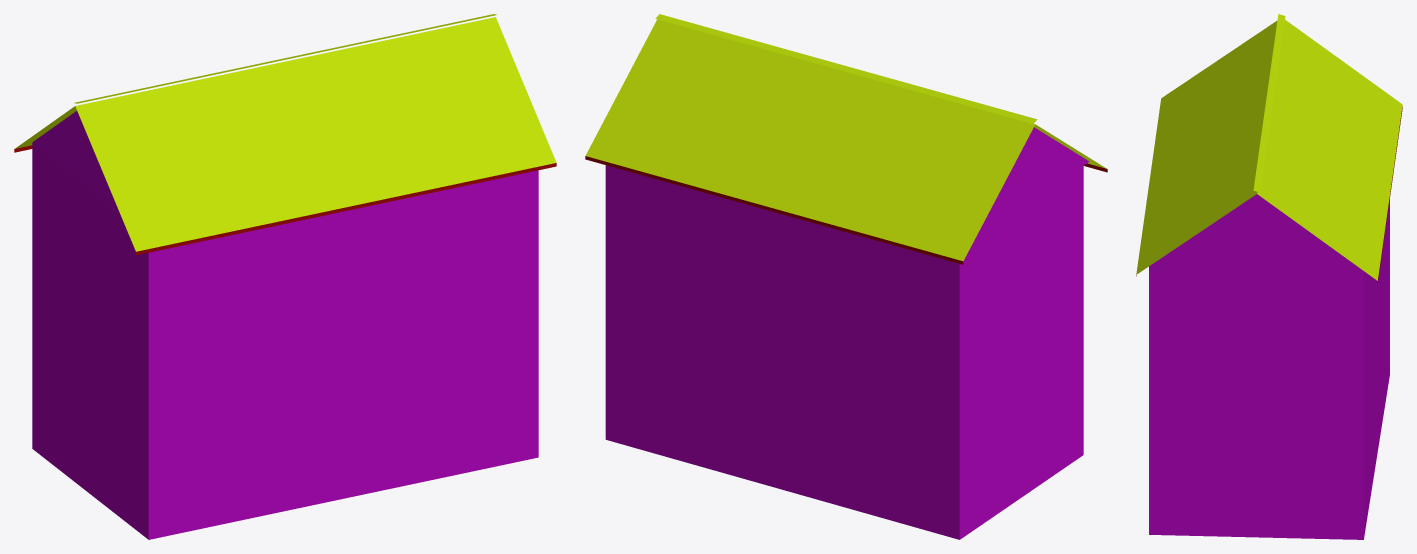
The model's file is bgj_258.glb.
3 views of the same model, side by side, from view 1: azimuth 30°, elevation 25°; view 2: azimuth 150°, elevation 25°; view 3: azimuth 270°, elevation 25° (orthographic). The views are drawn at different scales.
Visible parts, largest first — view 1: bgj_258; view 2: bgj_258; view 3: bgj_258.
Part boxes in pixels (x1,y1,x2,y2): bgj_258: [14, 14, 556, 539]; bgj_258: [585, 14, 1107, 539]; bgj_258: [1136, 14, 1402, 539].
Size of the model in its own units: 14.48 by 13 by 8.92.
